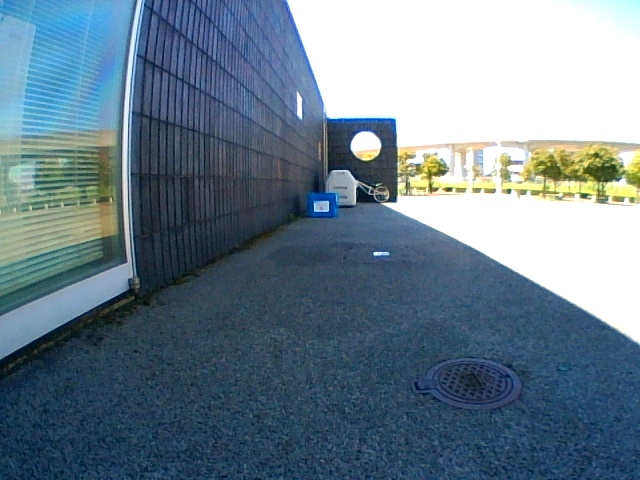blue_box: (308, 193, 337, 217)
tag: (315, 201, 328, 211)
